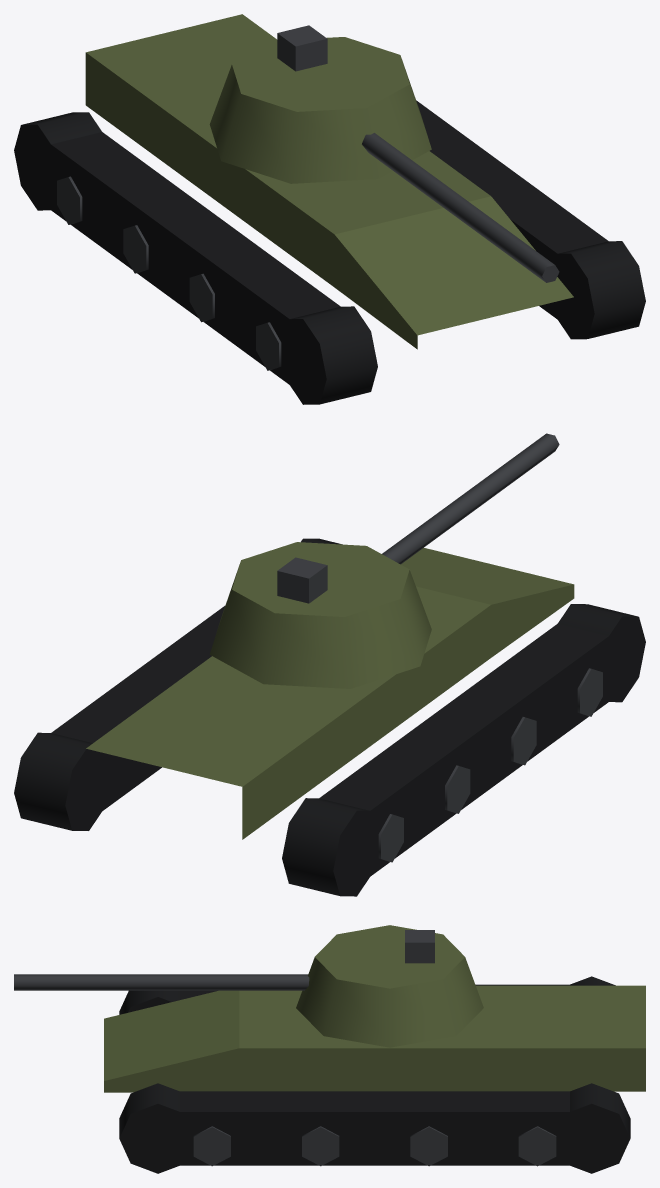
The model's file is veh_ground_tank_heavy_a06.glb.
3 renders of one model, top to bottom at view 1: azimuth 30°, elevation 25°; view 2: azimuth 150°, elevation 25°; view 3: azimuth 270°, elevation 25°, orthographic. The views are drawn at different scales.
Parts seen in each view (by area): view 1: body, track_r, turret, track_l; view 2: body, track_r, turret, track_l; view 3: body, track_l, turret, track_r.
Boxes of the visible parts, <box> form: body: <box>85,14,573,349</box>; track_r: <box>14,112,377,404</box>; turret: <box>209,37,559,282</box>; track_l: <box>416,100,645,339</box>; body: <box>86,548,574,839</box>; track_r: <box>282,604,645,896</box>; turret: <box>210,433,559,688</box>; track_l: <box>14,538,342,830</box>; body: <box>104,930,645,1092</box>; track_l: <box>119,1083,630,1173</box>; turret: <box>14,925,483,1047</box>; track_r: <box>119,976,615,1014</box>.
Size of what is drawn, in the model's own units: 4.07 by 2.55 by 8.41.
